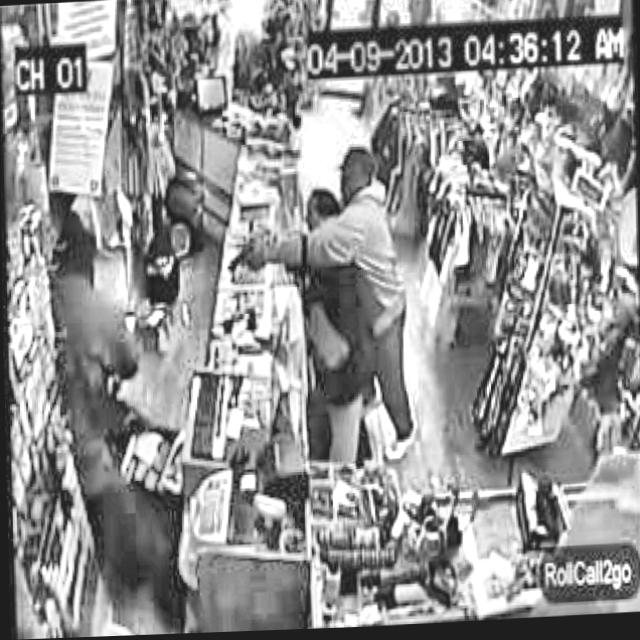robbery: (222, 146, 418, 477)
